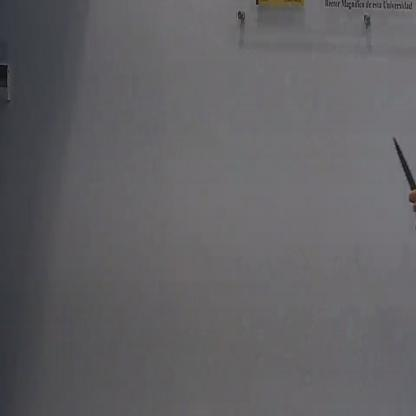knife: (389, 127, 416, 240)
